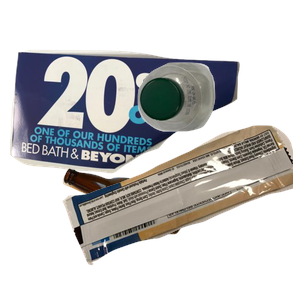glass: (60, 166, 241, 300)
paper: (10, 41, 242, 207)
plastic: (135, 60, 300, 184)
trash: (60, 123, 300, 300)
